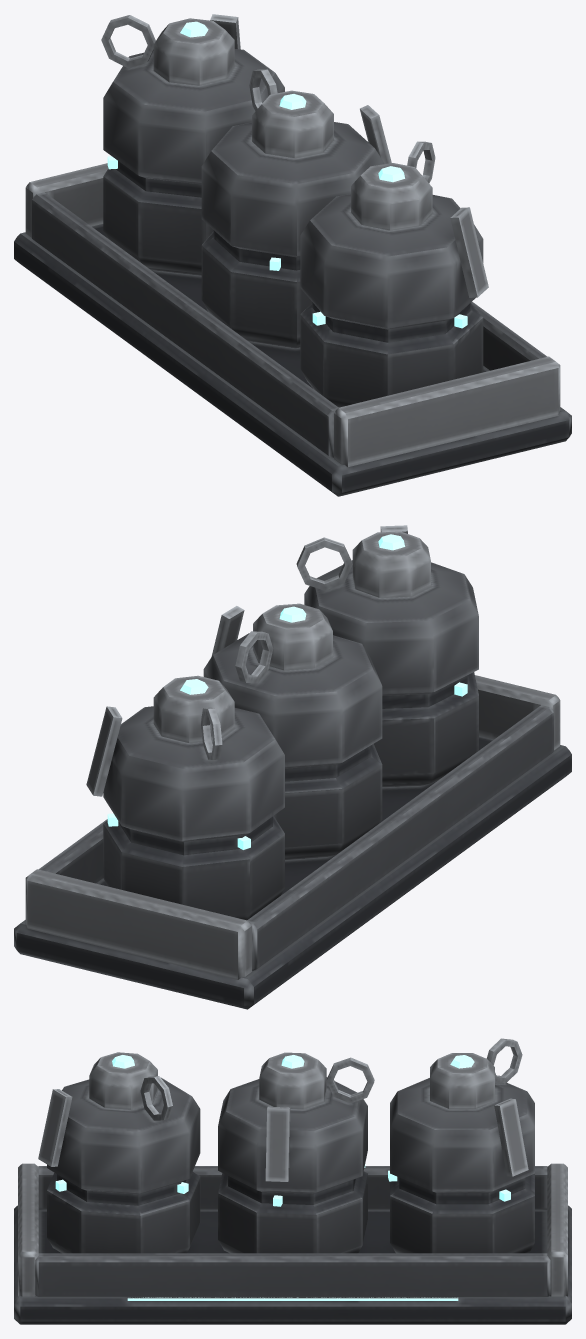
The model's file is pickup_grenade.glb.
3 views of the same model, one above another, from view 1: azimuth 30°, elevation 25°; view 2: azimuth 150°, elevation 25°; view 3: azimuth 270°, elevation 25° (orthographic). The views are drawn at different scales.
Parts seen in each view (by area): view 1: pickup_grenade; view 2: pickup_grenade; view 3: pickup_grenade.
Part boxes in pixels (box(x1,y1,x2,y2)): pickup_grenade: box(14, 14, 571, 496); pickup_grenade: box(14, 525, 571, 1009); pickup_grenade: box(14, 1038, 571, 1324).
Size of the model in its own units: 0.115 by 0.1176 by 0.27.
1 material, 1 textured.
